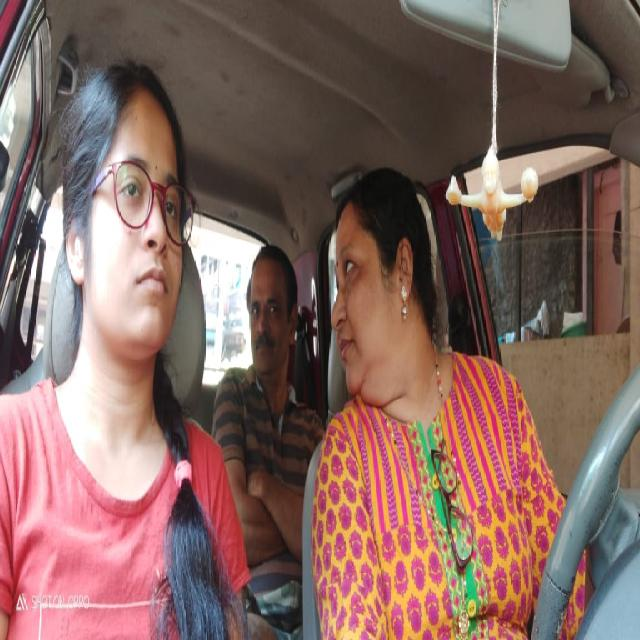LeftRight: (324, 180, 436, 411)
person: (59, 75, 191, 358), (244, 231, 299, 376)
